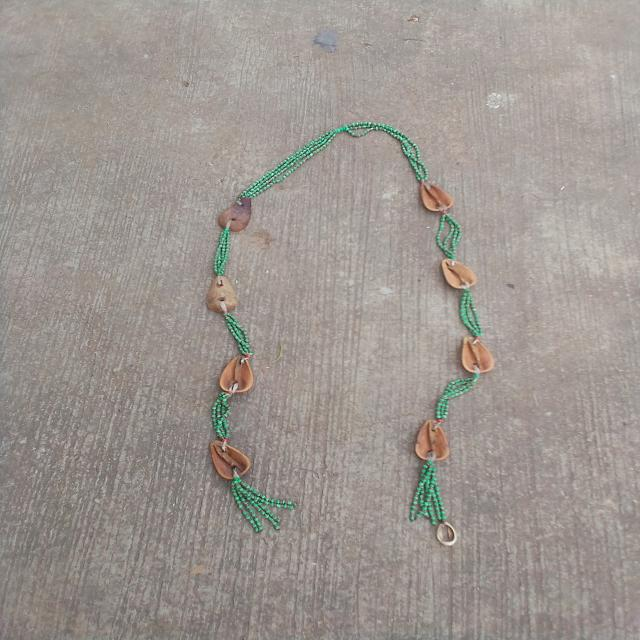facedown: (214, 189, 257, 234), (202, 273, 244, 316)
faceup: (207, 440, 252, 482), (413, 416, 451, 463), (218, 354, 258, 396), (460, 334, 496, 376), (415, 180, 456, 215), (440, 257, 482, 291)
